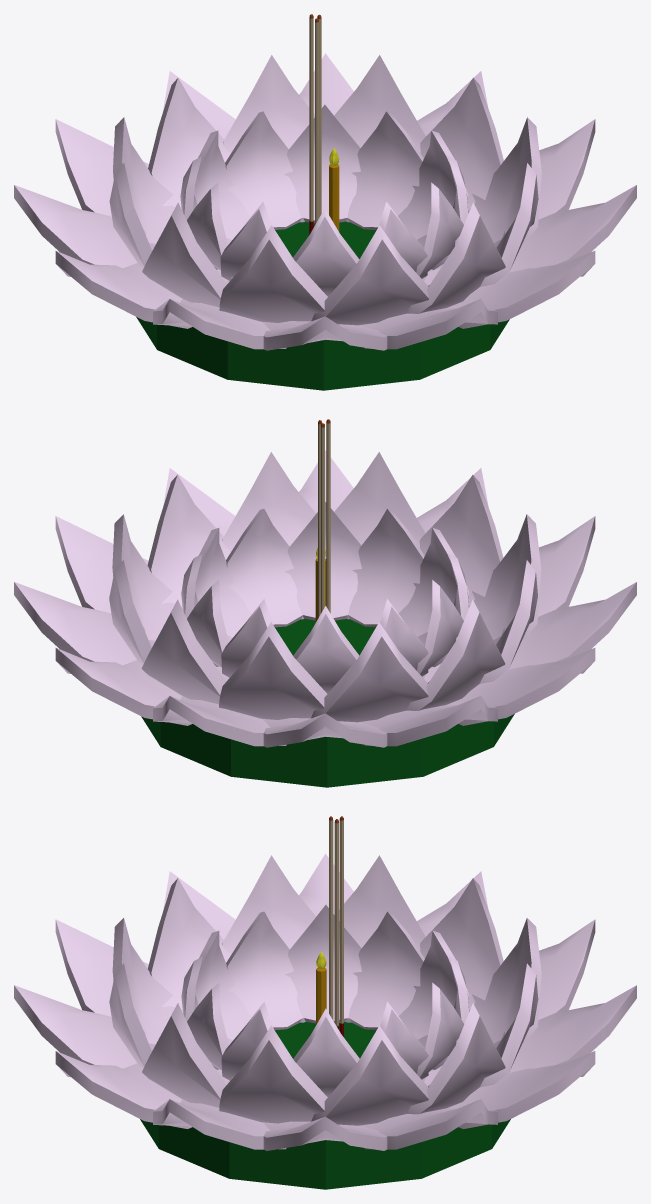
Rendered from krathong_02.fbx.
3 renders of one model, top to bottom at view 1: azimuth 30°, elevation 25°; view 2: azimuth 150°, elevation 25°; view 3: azimuth 270°, elevation 25°, orthographic.
Visible parts, largest first — view 1: pCylinder22; view 2: pCylinder22; view 3: pCylinder22.
Boxes of the visible parts, x1,y1,x2,y2 form: pCylinder22: [14, 14, 636, 390]; pCylinder22: [14, 419, 636, 787]; pCylinder22: [14, 816, 636, 1189].
Size of the model in its own units: 29.14 by 14.96 by 29.14.
